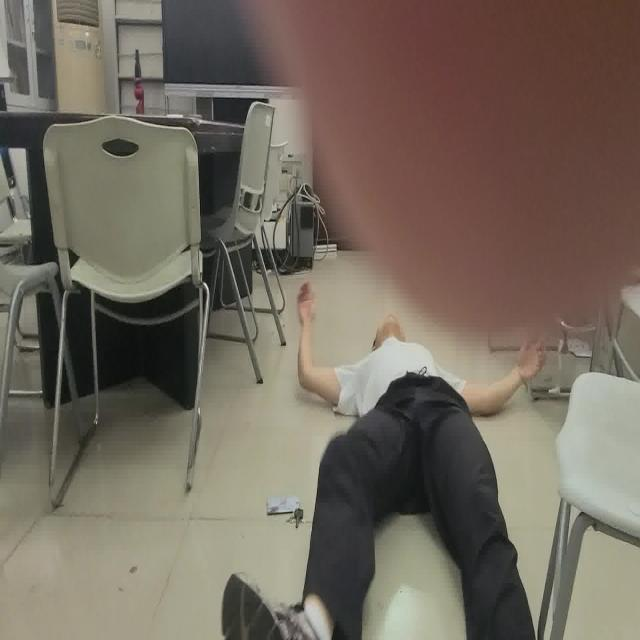fall: (220, 282, 548, 640)
